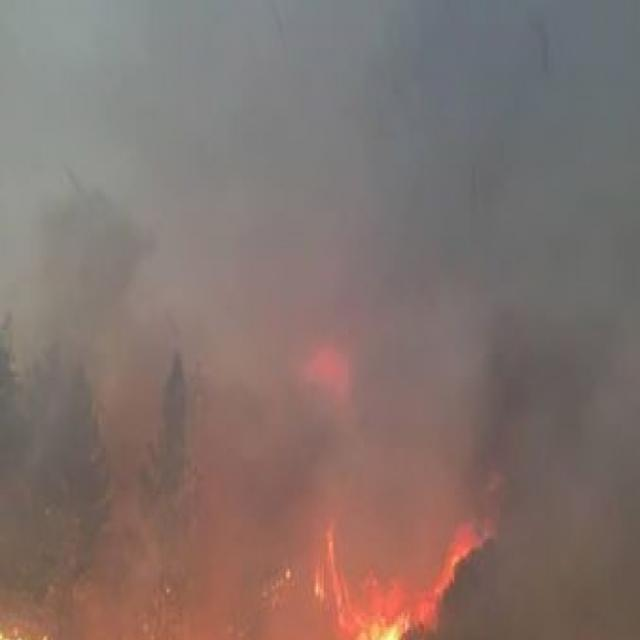Fire: (318, 525, 490, 640)
Smoke: (2, 0, 640, 640)
